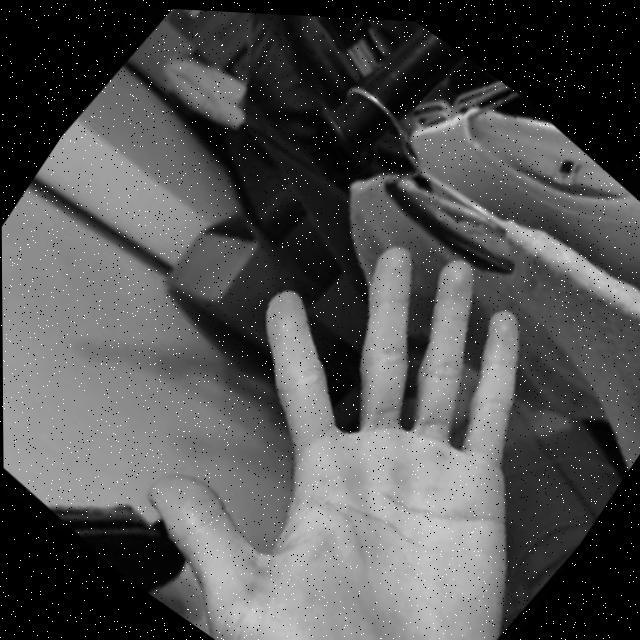no-gloves: (94, 161, 640, 640)
